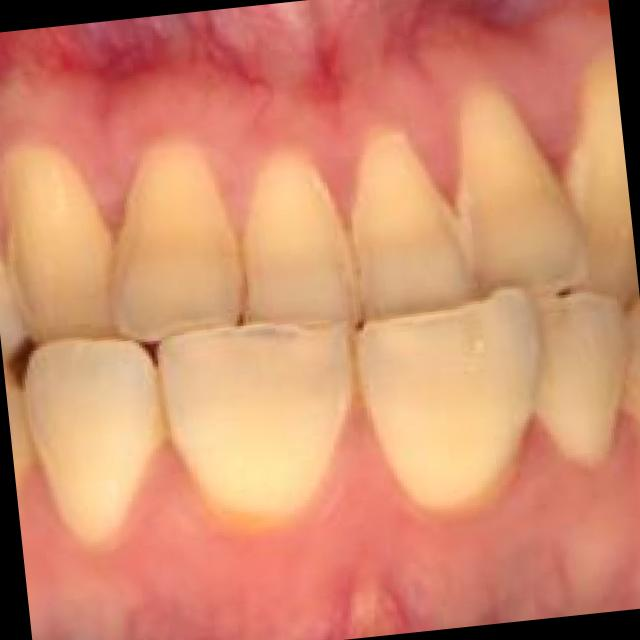karies: (214, 496, 294, 540), (228, 238, 262, 317)
